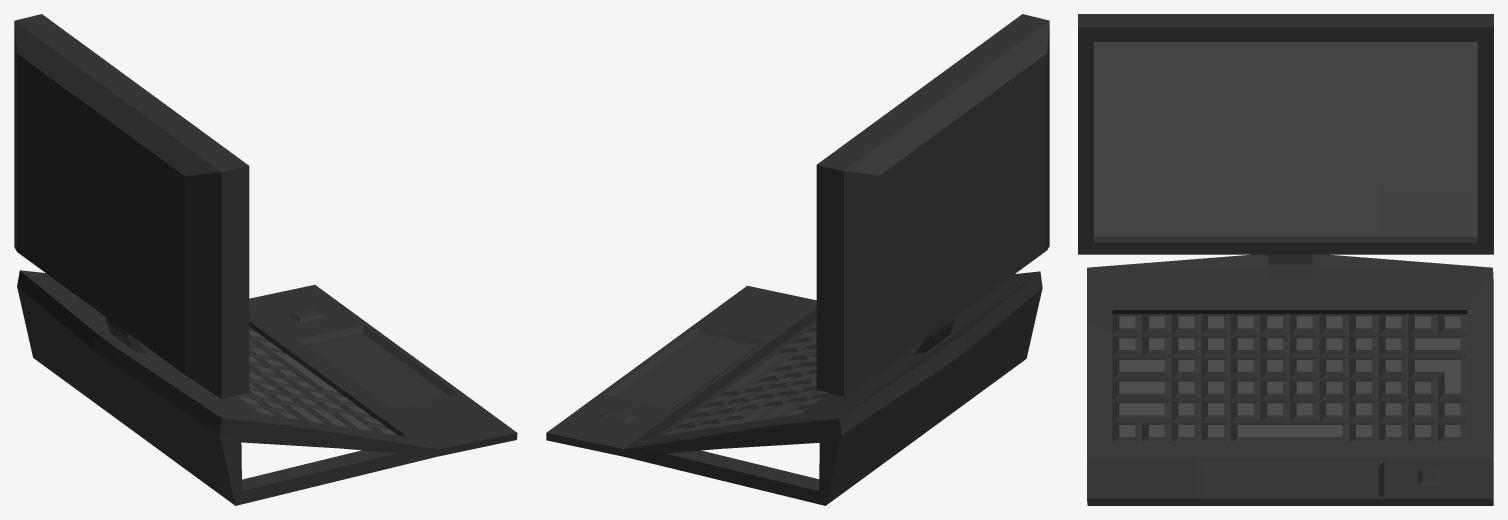
File: ComputadoraGamer.fbx
3 renders of one model, left to right at view 1: azimuth 30°, elevation 25°; view 2: azimuth 150°, elevation 25°; view 3: azimuth 270°, elevation 25°, orthographic.
Parts seen in each view (by area): view 1: Cube.001; view 2: Cube.001; view 3: Cube.001.
Boxes of the visible parts, left/top/right/bottom form: Cube.001: left=14, top=14, right=517, bottom=505; Cube.001: left=546, top=14, right=1049, bottom=505; Cube.001: left=1078, top=14, right=1493, bottom=505.
Bounding box in the file's own units: 66.83 × 69.24 × 75.6.
Materials: 1 (1 with a texture image).
